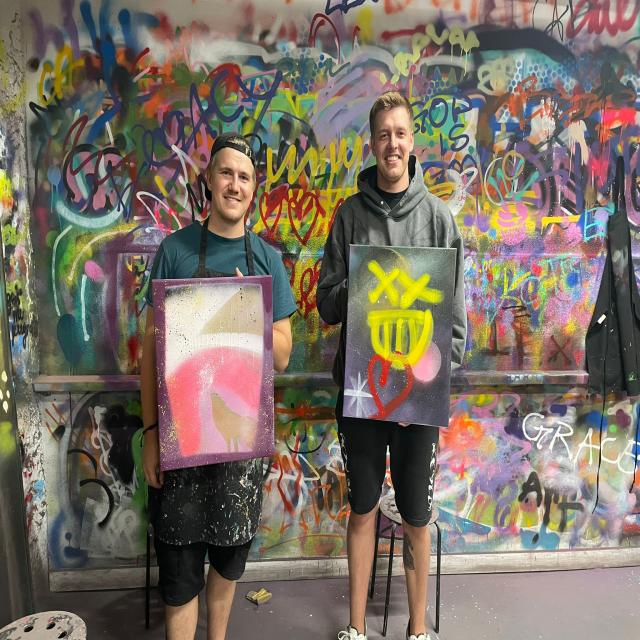JeremiasDiaz: (369, 93, 414, 187)
face: (206, 128, 254, 226)
